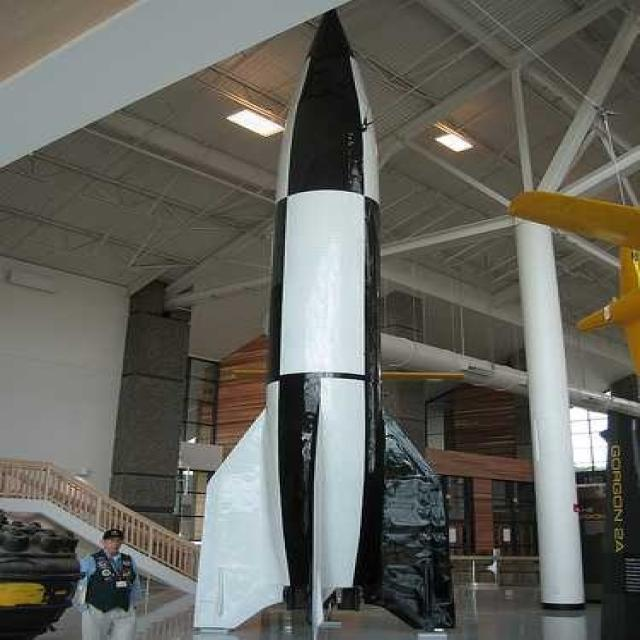missile: (188, 10, 456, 640)
